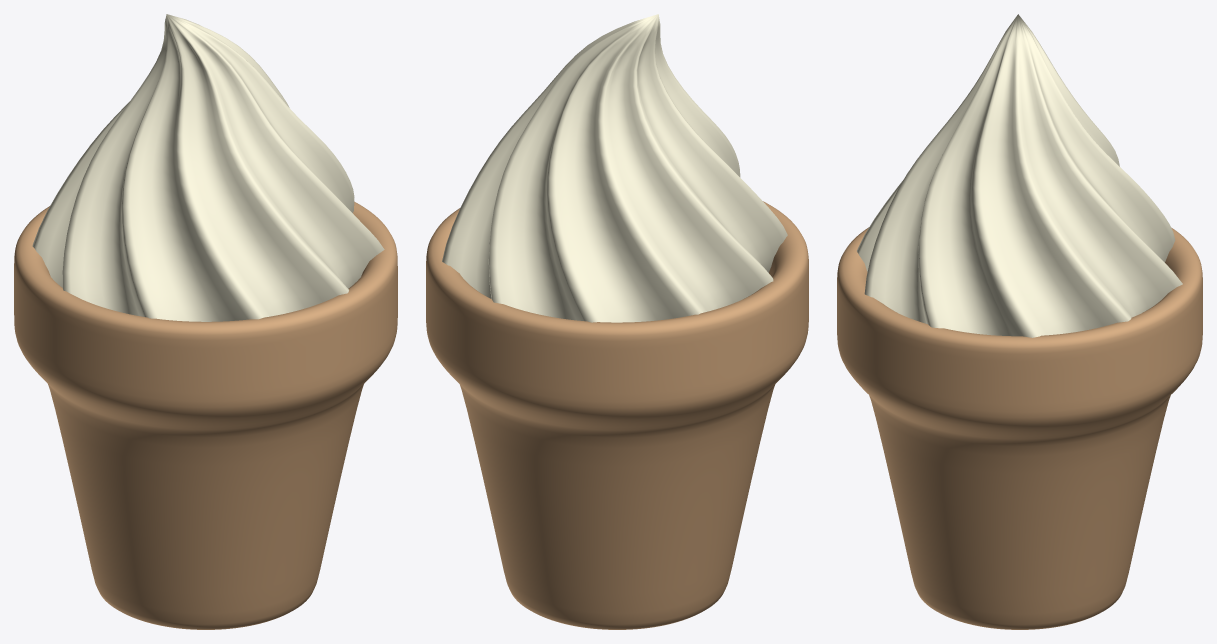
The model's file is VanillaIceCream.fbx.
The picture shows the model from 3 angles, left to right: view 1: azimuth 30°, elevation 25°; view 2: azimuth 150°, elevation 25°; view 3: azimuth 270°, elevation 25°; orthographic projection. The views are drawn at different scales.
Visible parts, largest first — view 1: VanillaIceCreamCone, VanillaIceCream; view 2: VanillaIceCreamCone, VanillaIceCream; view 3: VanillaIceCreamCone, VanillaIceCream.
Part boxes in pixels (left/top/right/bottom): VanillaIceCreamCone: left=14, top=201, right=397, bottom=629; VanillaIceCream: left=32, top=14, right=384, bottom=321; VanillaIceCreamCone: left=426, top=201, right=808, bottom=629; VanillaIceCream: left=442, top=14, right=787, bottom=322; VanillaIceCreamCone: left=837, top=227, right=1202, bottom=629; VanillaIceCream: left=857, top=14, right=1182, bottom=337.
Bounding box in the file's own units: 51.26 × 86.04 × 51.26.
